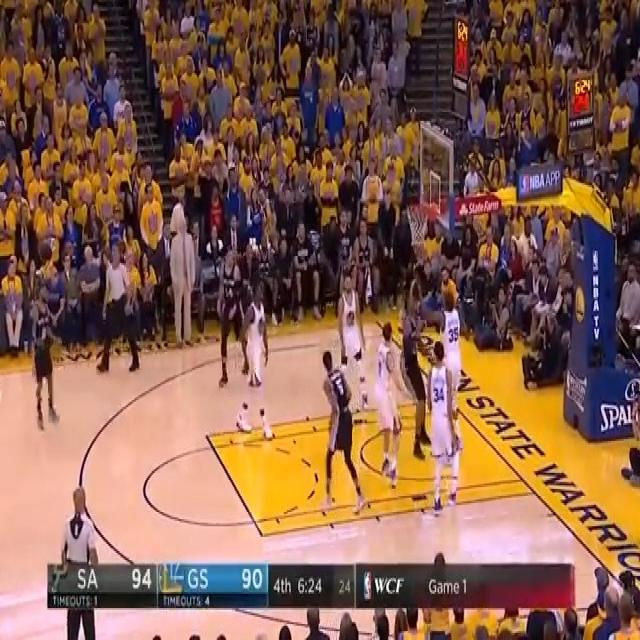hoop: (400, 188, 438, 261)
